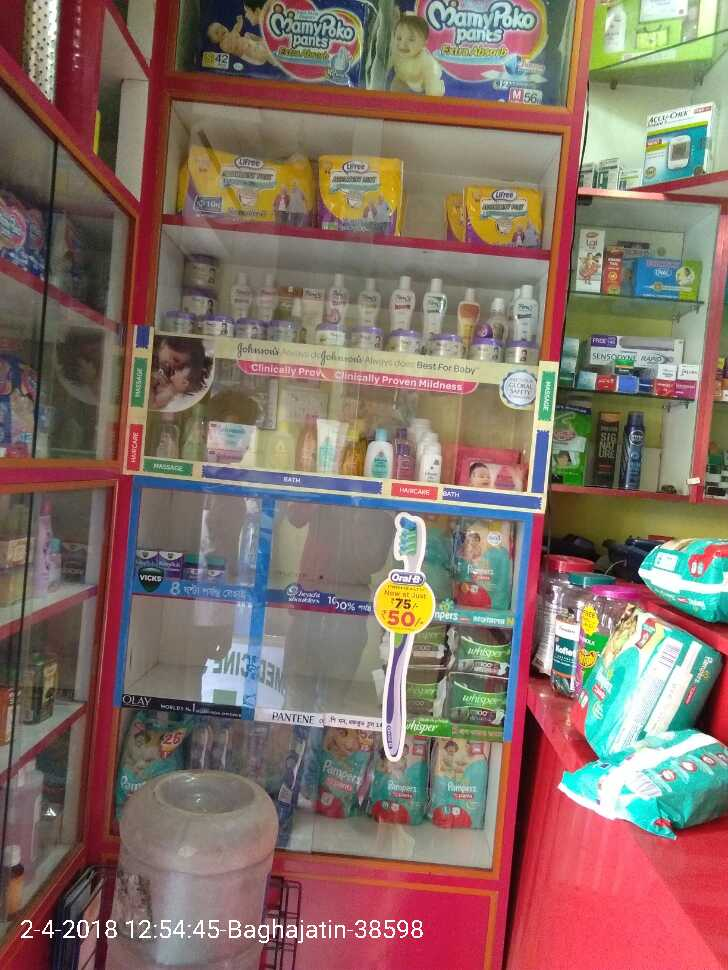vicks: (135, 547, 159, 580), (159, 551, 183, 580), (183, 551, 203, 583), (203, 558, 228, 583)
